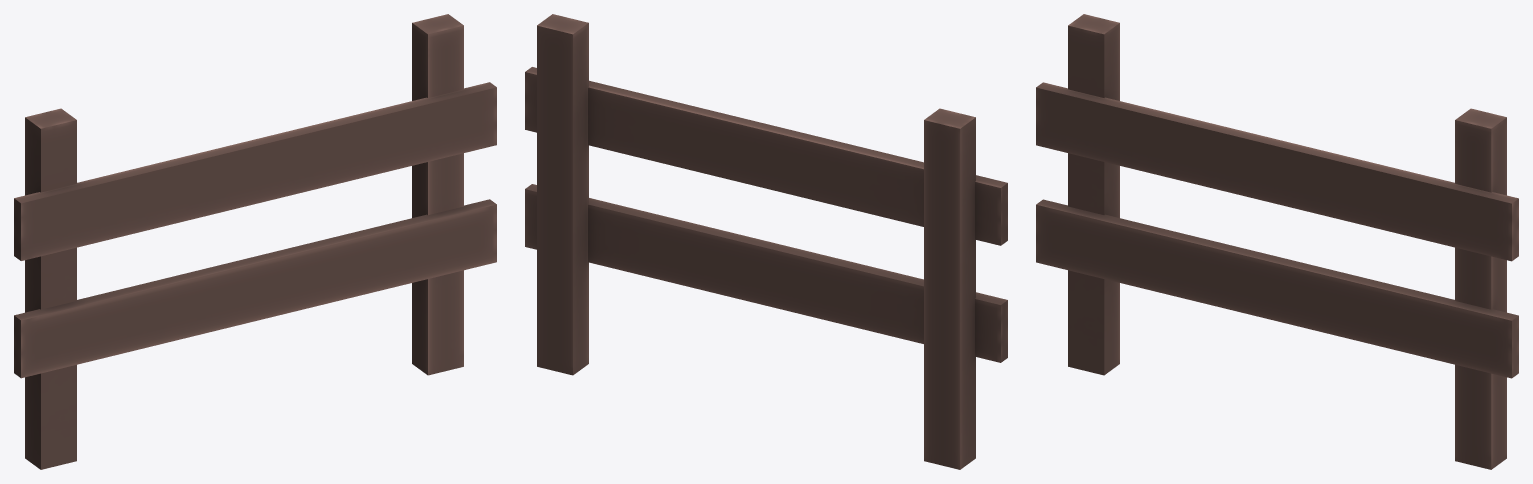
The model's file is Fence_6.fbx.
3 renders of one model, left to right at view 1: azimuth 30°, elevation 25°; view 2: azimuth 150°, elevation 25°; view 3: azimuth 330°, elevation 25°, orthographic.
Visible parts, largest first — view 1: Fence_6; view 2: Fence_6; view 3: Fence_6.
Boxes of the visible parts, box(x1,y1,x2,y2) form: Fence_6: box(14, 14, 496, 469); Fence_6: box(525, 14, 1007, 469); Fence_6: box(1036, 14, 1518, 469).
Bounding box in the file's own units: 59.83 × 4.78 × 40.98.
Materials: 1 (1 with a texture image).
